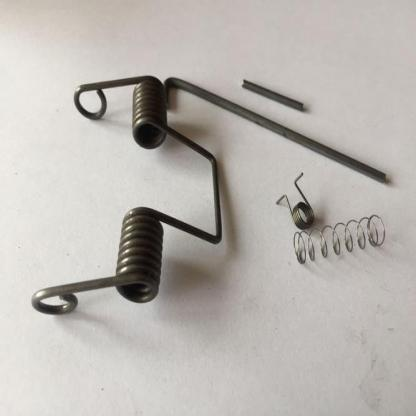FOD: (29, 73, 224, 322), (289, 211, 386, 265), (274, 169, 315, 231)
